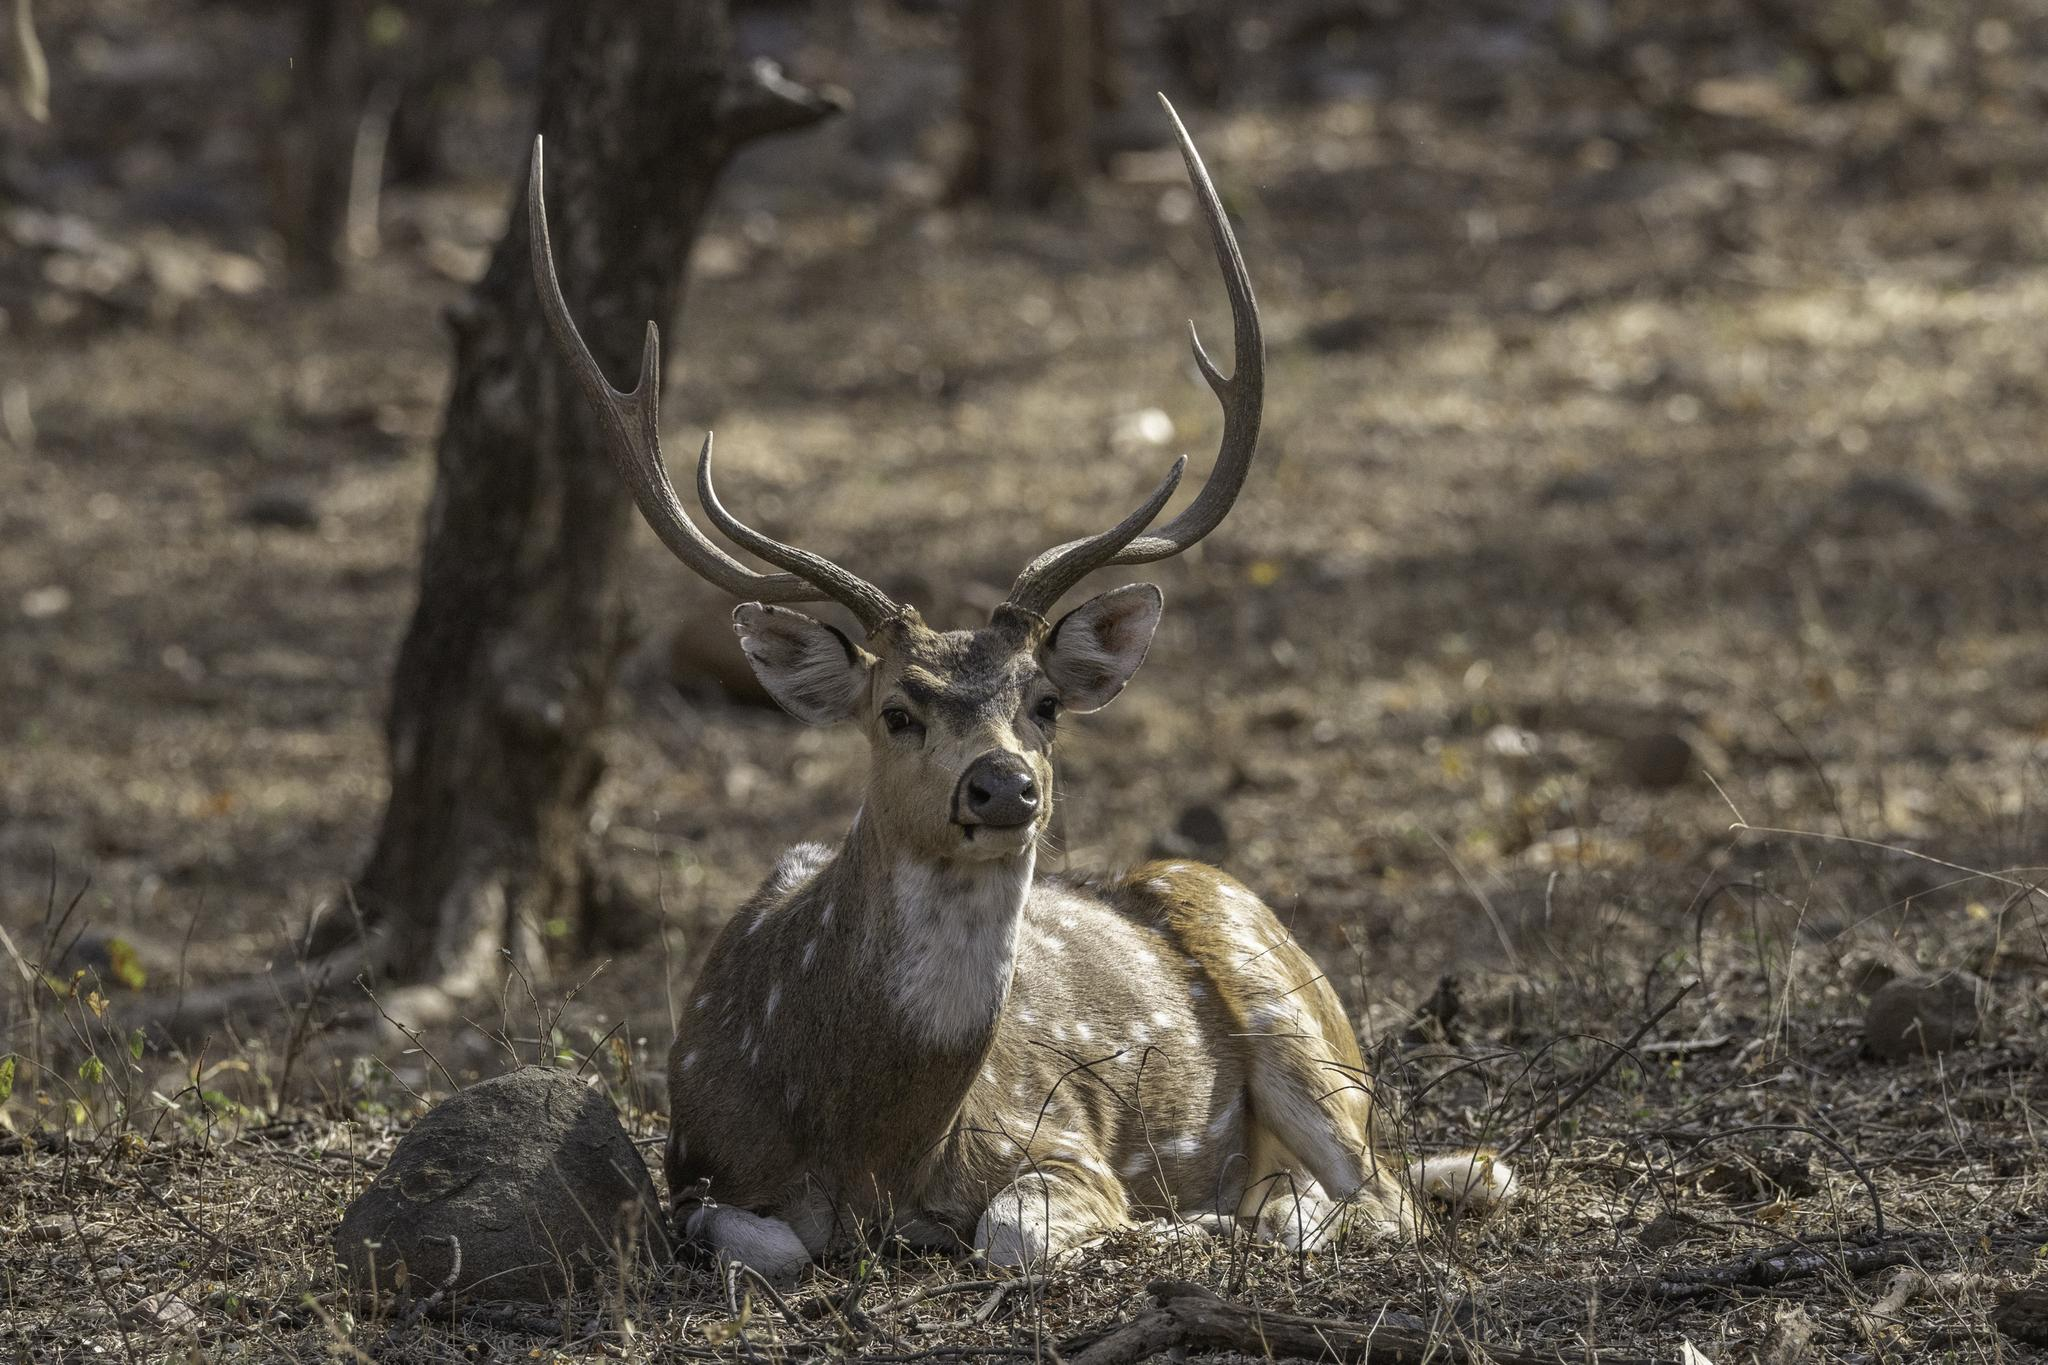Deer: (528, 107, 1509, 1277)
